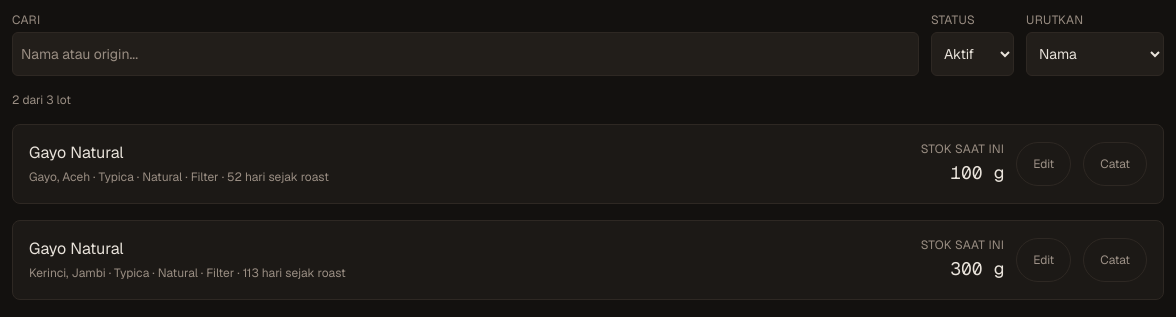
Test: LotList pencarian › mencari origin tanpa membedakan kapital
Type "aceh" into the search field labelled "Cari" at (466, 54), box 12,32 -> 919,76
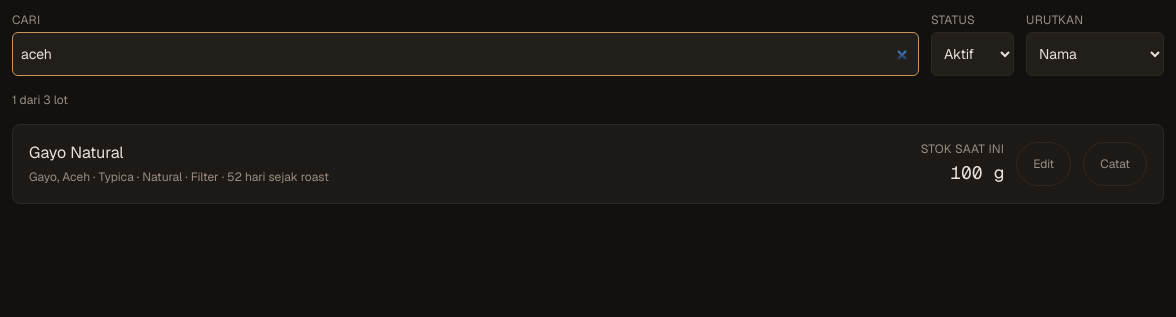
Expected: the number of buttons named "Catat untuk Gayo Natural" is 1, 1083,142 -> 1147,186
